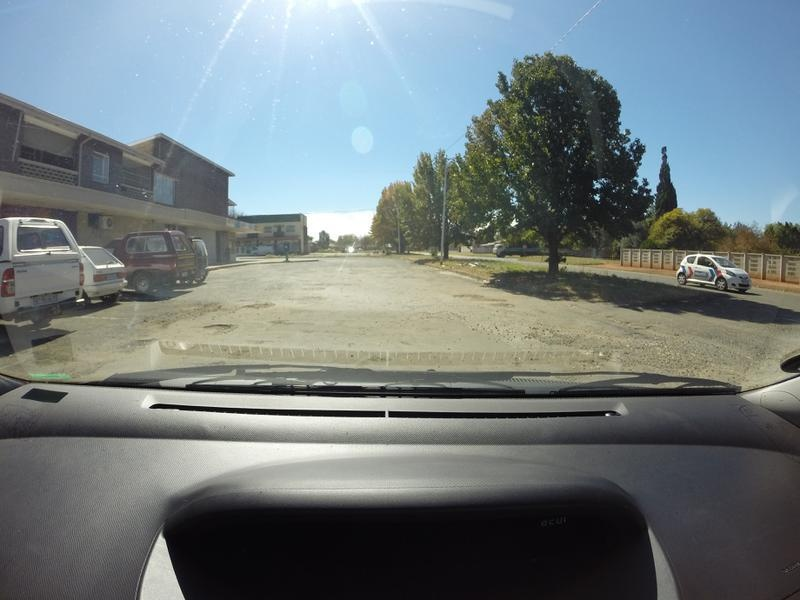pothole: (194, 321, 235, 335), (232, 300, 273, 314)
